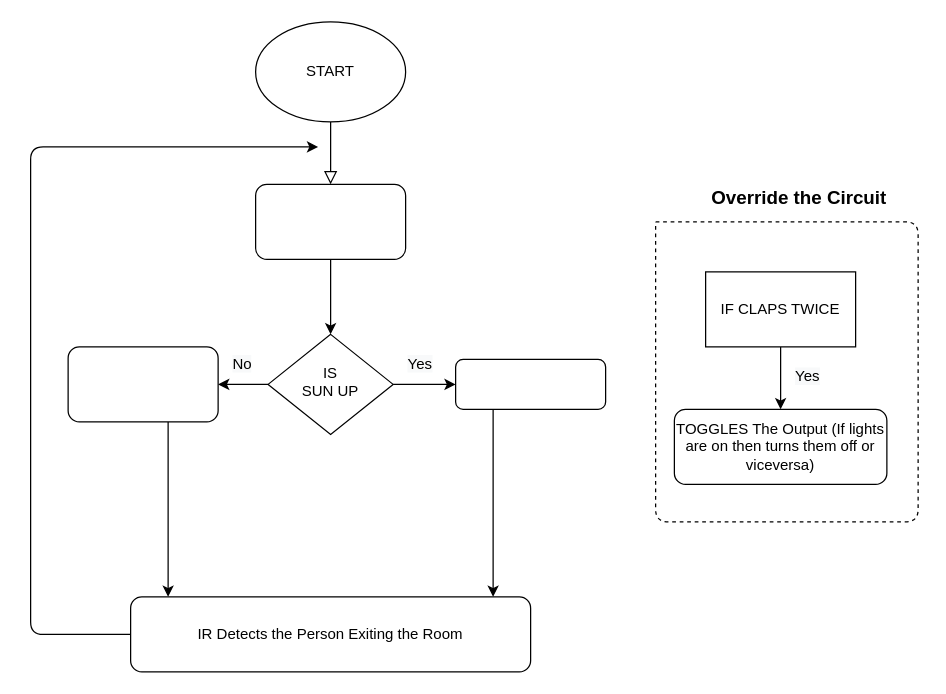
This 946x694 diagram has some shape labels left out. Here are the shapes that lost their labels. From the top down, the box of each, then its label:
(254, 183, 406, 259): Infrared Detects the person entering the room
(67, 346, 218, 422): LIGHTS are ON
(454, 358, 606, 409): Lights are OFF
